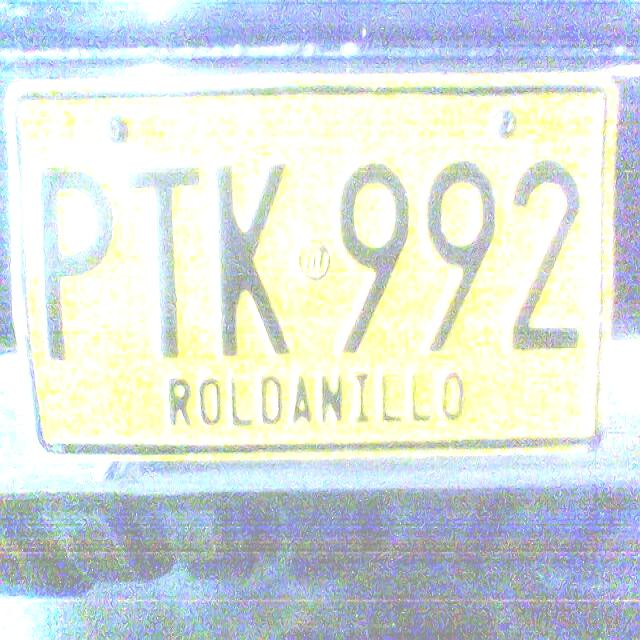placa: (5, 63, 624, 470)
